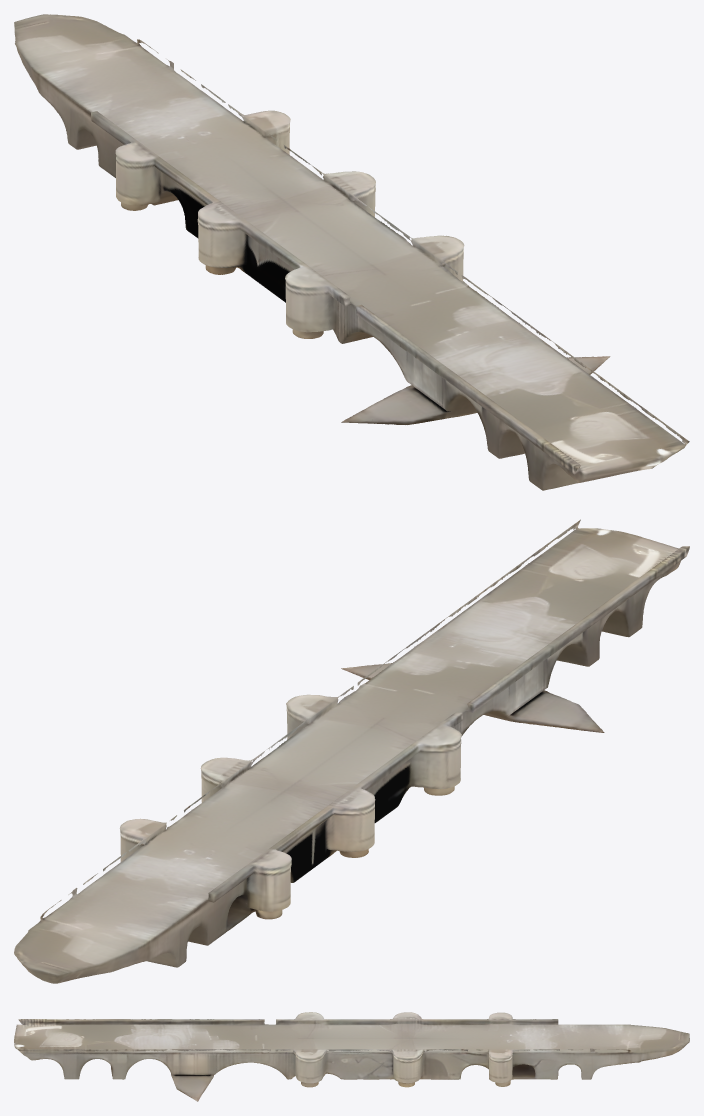
Rendered from base_basic_shaded.fbx.
3 renders of one model, top to bottom at view 1: azimuth 30°, elevation 25°; view 2: azimuth 150°, elevation 25°; view 3: azimuth 270°, elevation 25°, orthographic. The views are drawn at different scales.
Visible parts, largest first — view 1: model; view 2: model; view 3: model.
Part boxes in pixels (x1,y1,x2,y2): model: [14, 14, 689, 490]; model: [14, 519, 689, 983]; model: [14, 1012, 689, 1101].
Size of the model in its own units: 44.8 by 8.9 by 176.
